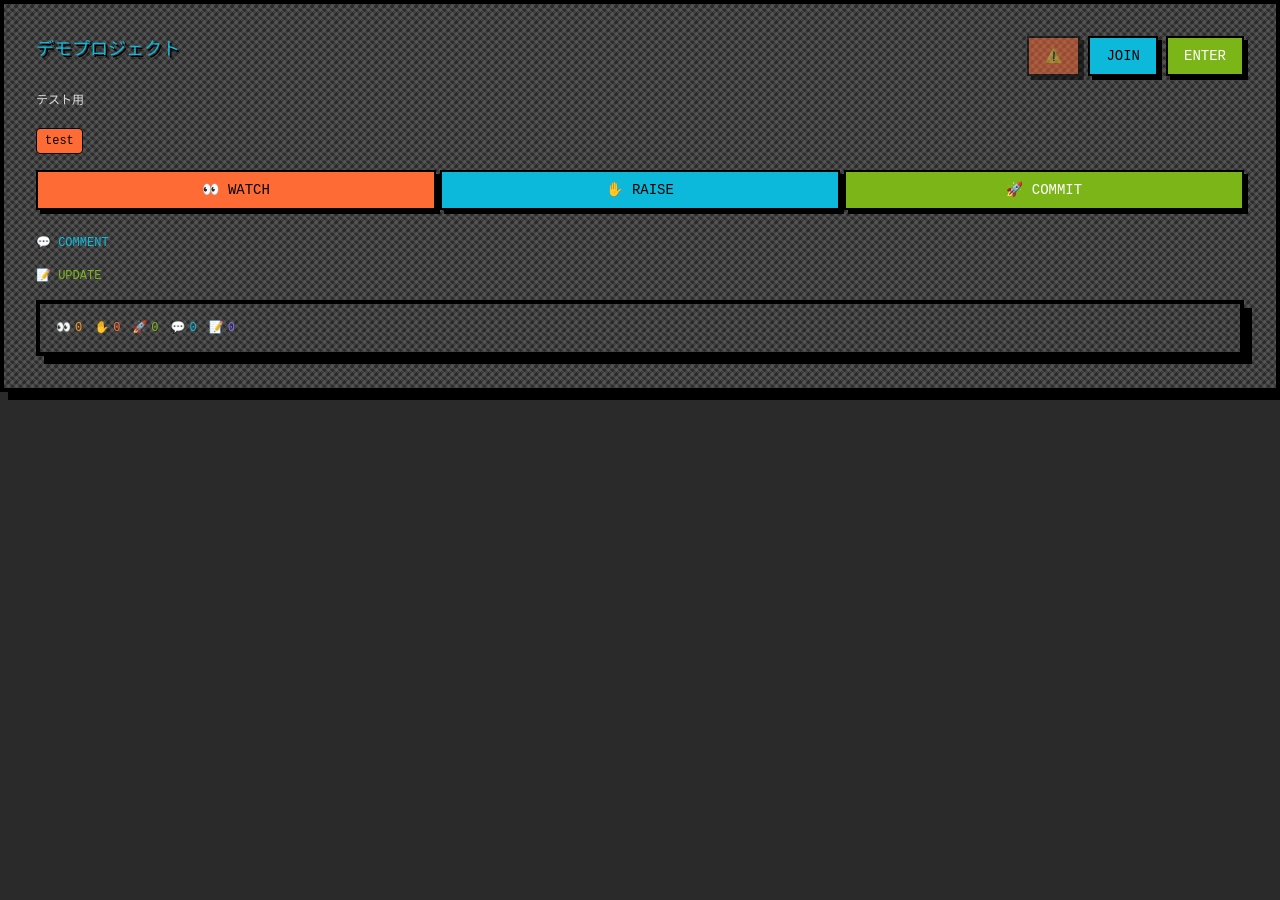
Test: ProjectCard › opens report modal
Click the button "⚠️": (1054, 56) [1027, 36, 1080, 76]
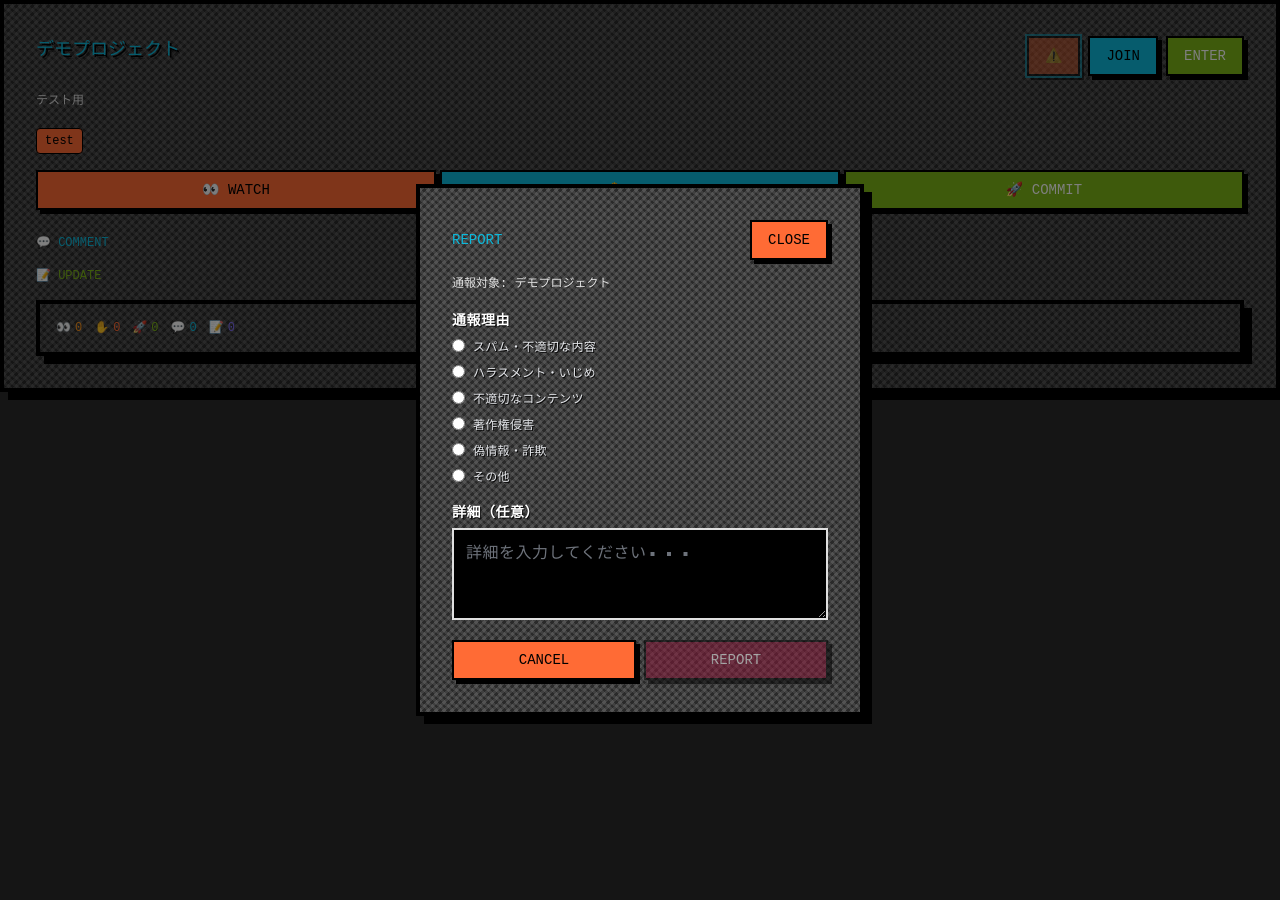
Now the dialog "REPORT" is shown
